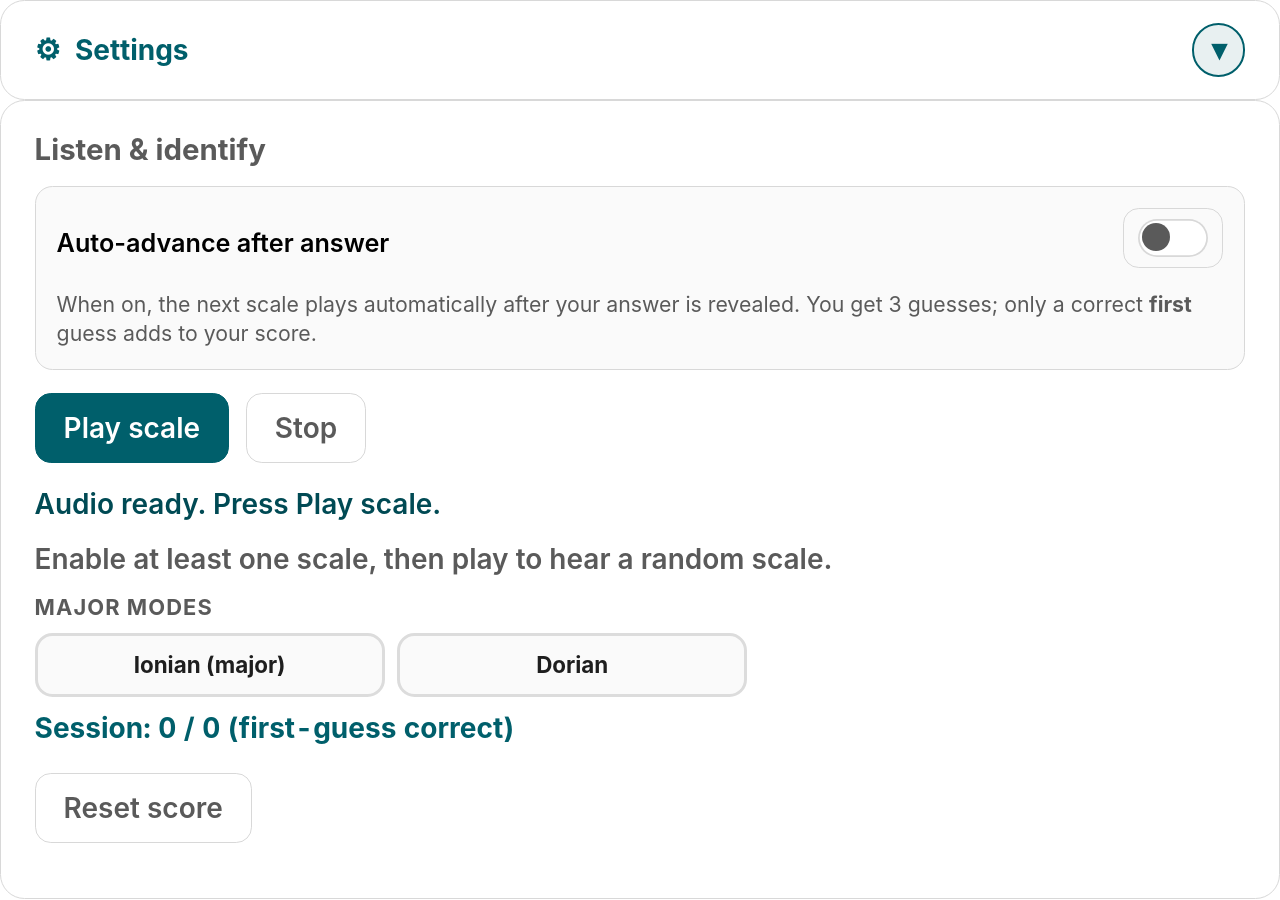
it: ScaleTopic — first-guess scoring (docs/05-topics/02 §6) › counts a first-try correct answer as total+1, correct+1
Click the button "Play scale" at (132, 428), box [35,393,229,463]
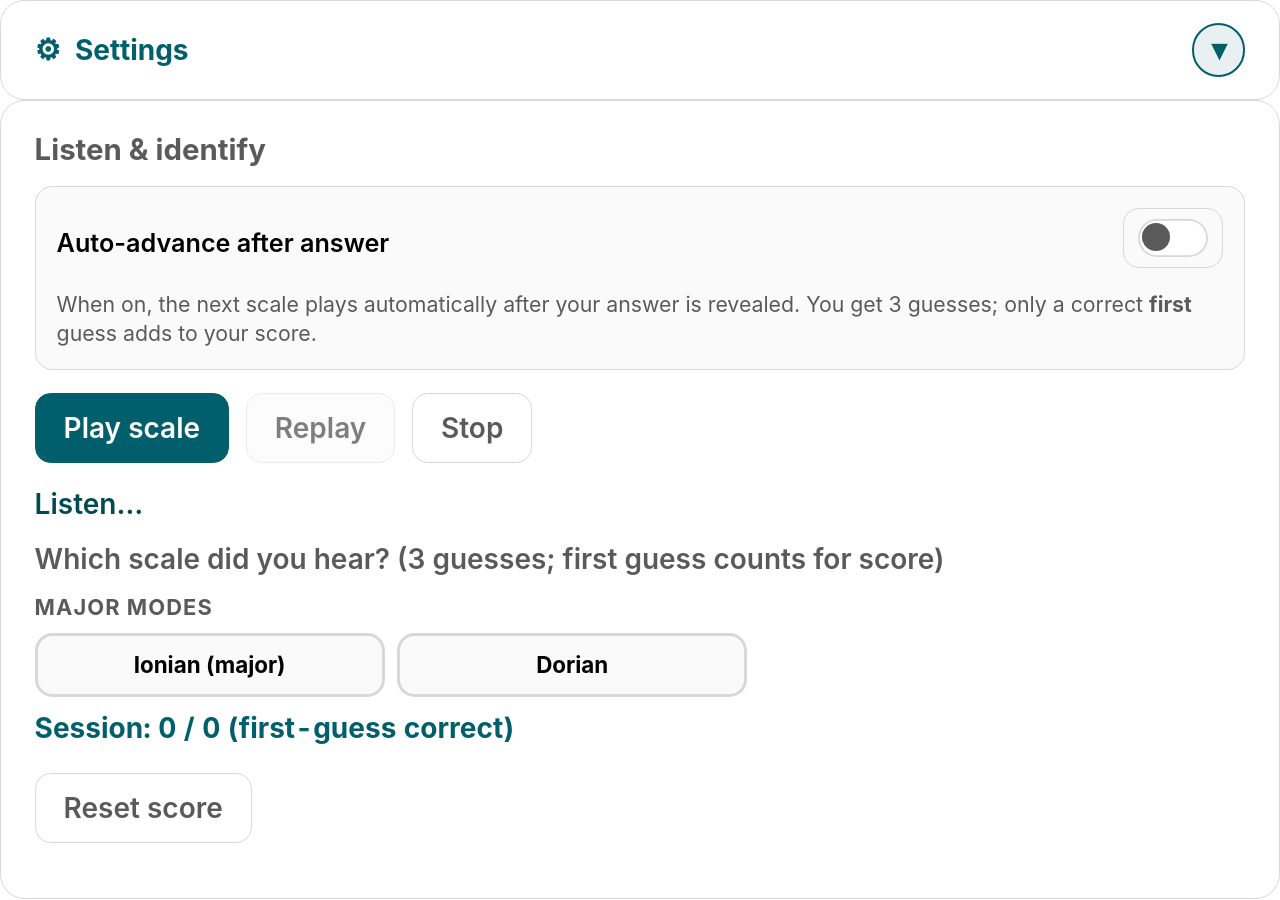
Click the button "Ionian (major)" at (210, 665), box [35,632,385,697]
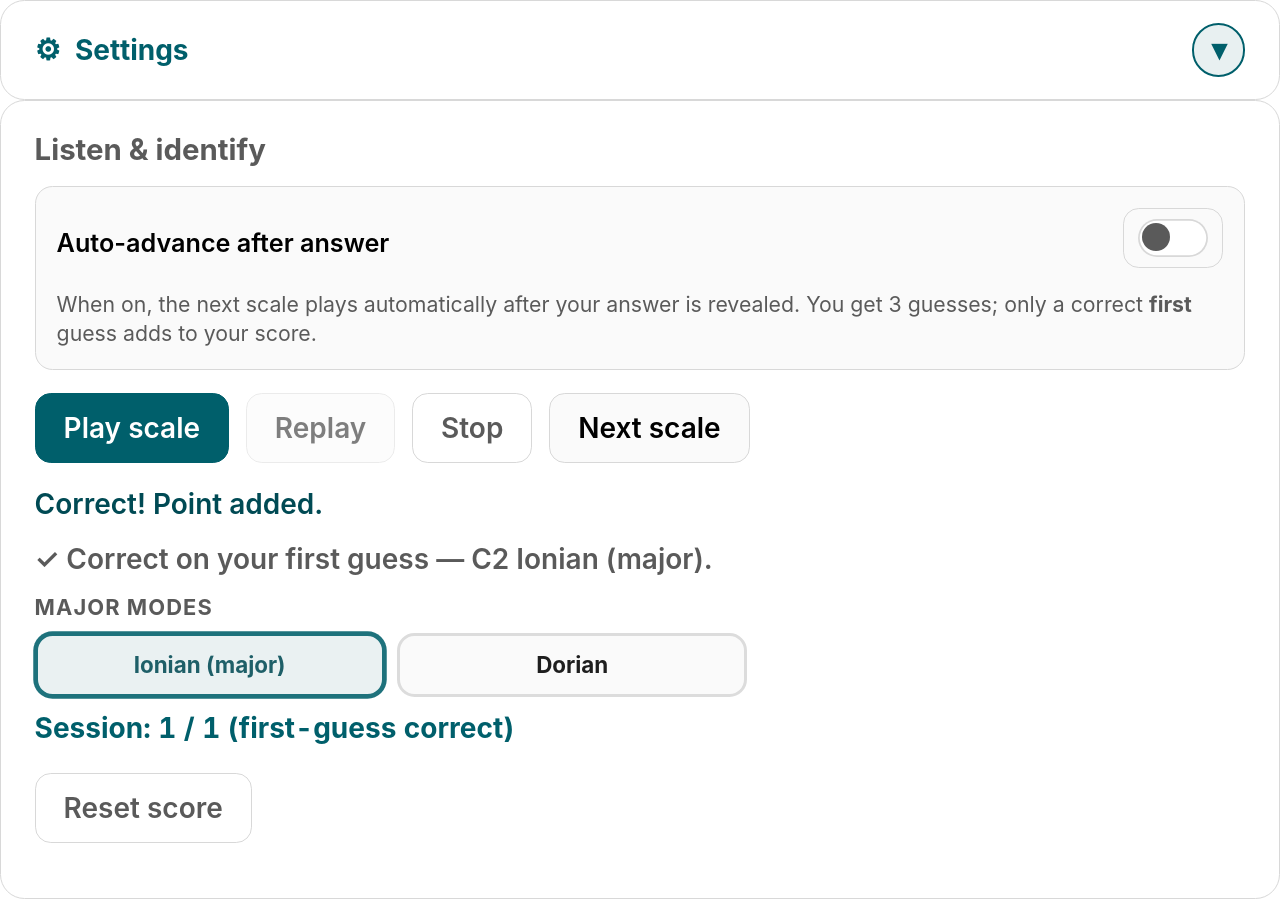
Now the text "Session: 1 / 1 (first-guess correct)" is shown, box [35,711,514,745]
